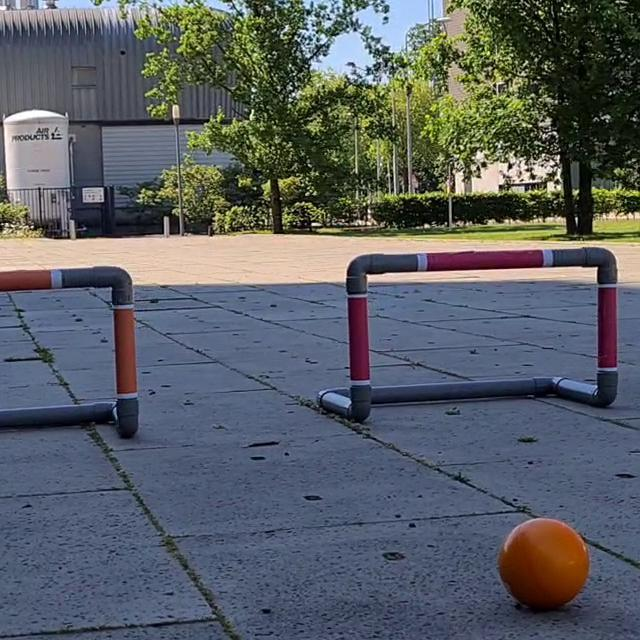ball: (492, 514, 592, 611)
